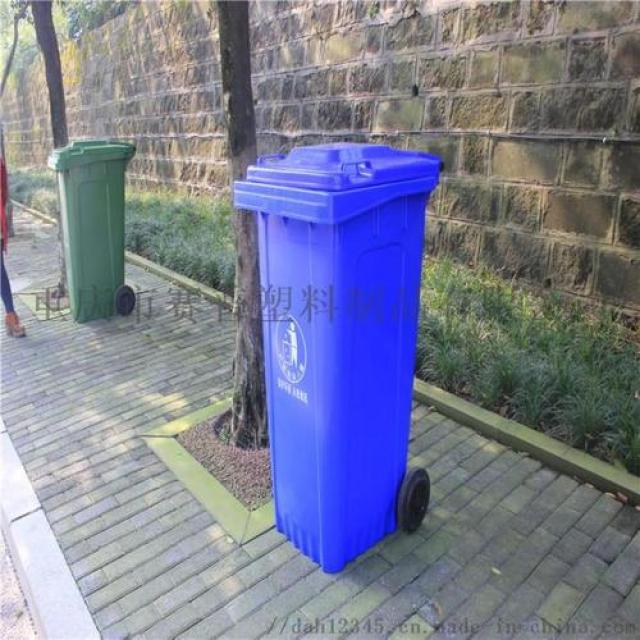garbage_bin: (230, 144, 442, 574), (46, 137, 134, 321)
